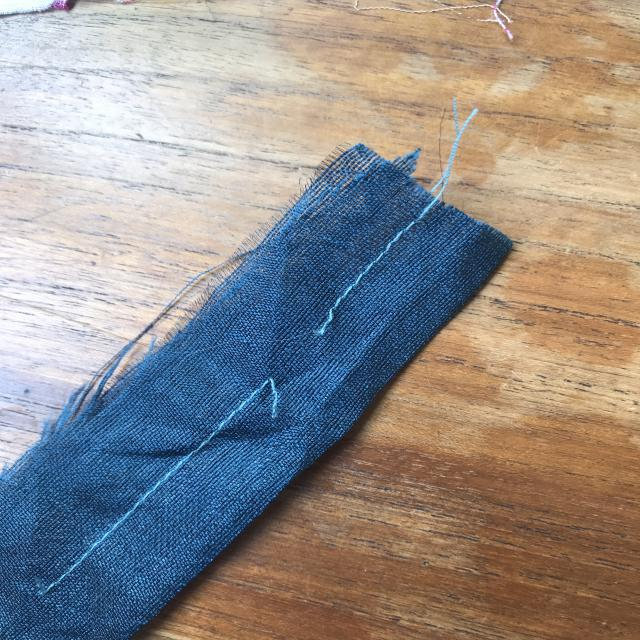broken: (235, 294, 354, 422)
